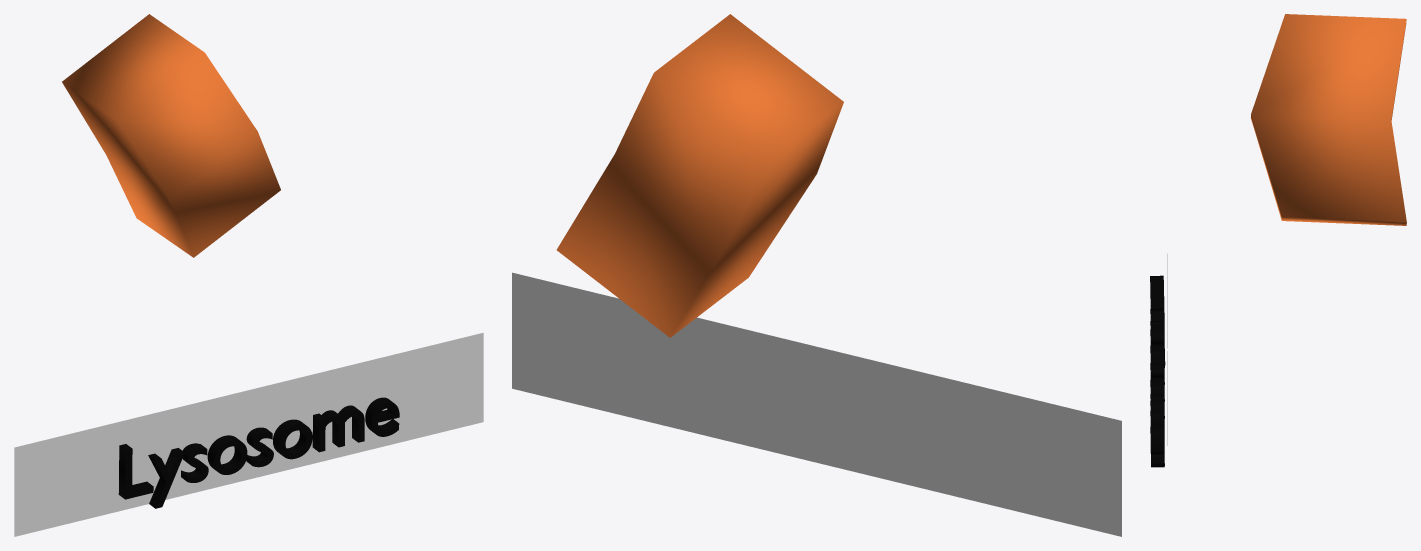
File: lysosome1.gltf
The picture shows the model from 3 angles, left to right: view 1: azimuth 30°, elevation 25°; view 2: azimuth 150°, elevation 25°; view 3: azimuth 270°, elevation 25°; orthographic projection. The views are drawn at different scales.
Visible parts, largest first — view 1: Plane.041, Piedra_Naranja.001, Text.026; view 2: Plane.041, Piedra_Naranja.001; view 3: Piedra_Naranja.001, Text.026.
Boxes of the visible parts, bbox=[...] form: Plane.041: bbox=[14, 332, 483, 536]; Piedra_Naranja.001: bbox=[62, 14, 280, 257]; Text.026: bbox=[118, 397, 399, 508]; Plane.041: bbox=[512, 272, 1121, 536]; Piedra_Naranja.001: bbox=[556, 14, 843, 337]; Piedra_Naranja.001: bbox=[1251, 14, 1406, 225]; Text.026: bbox=[1150, 275, 1165, 467].
Size of the model in its own units: 1.33 by 1.04 by 0.5954.
